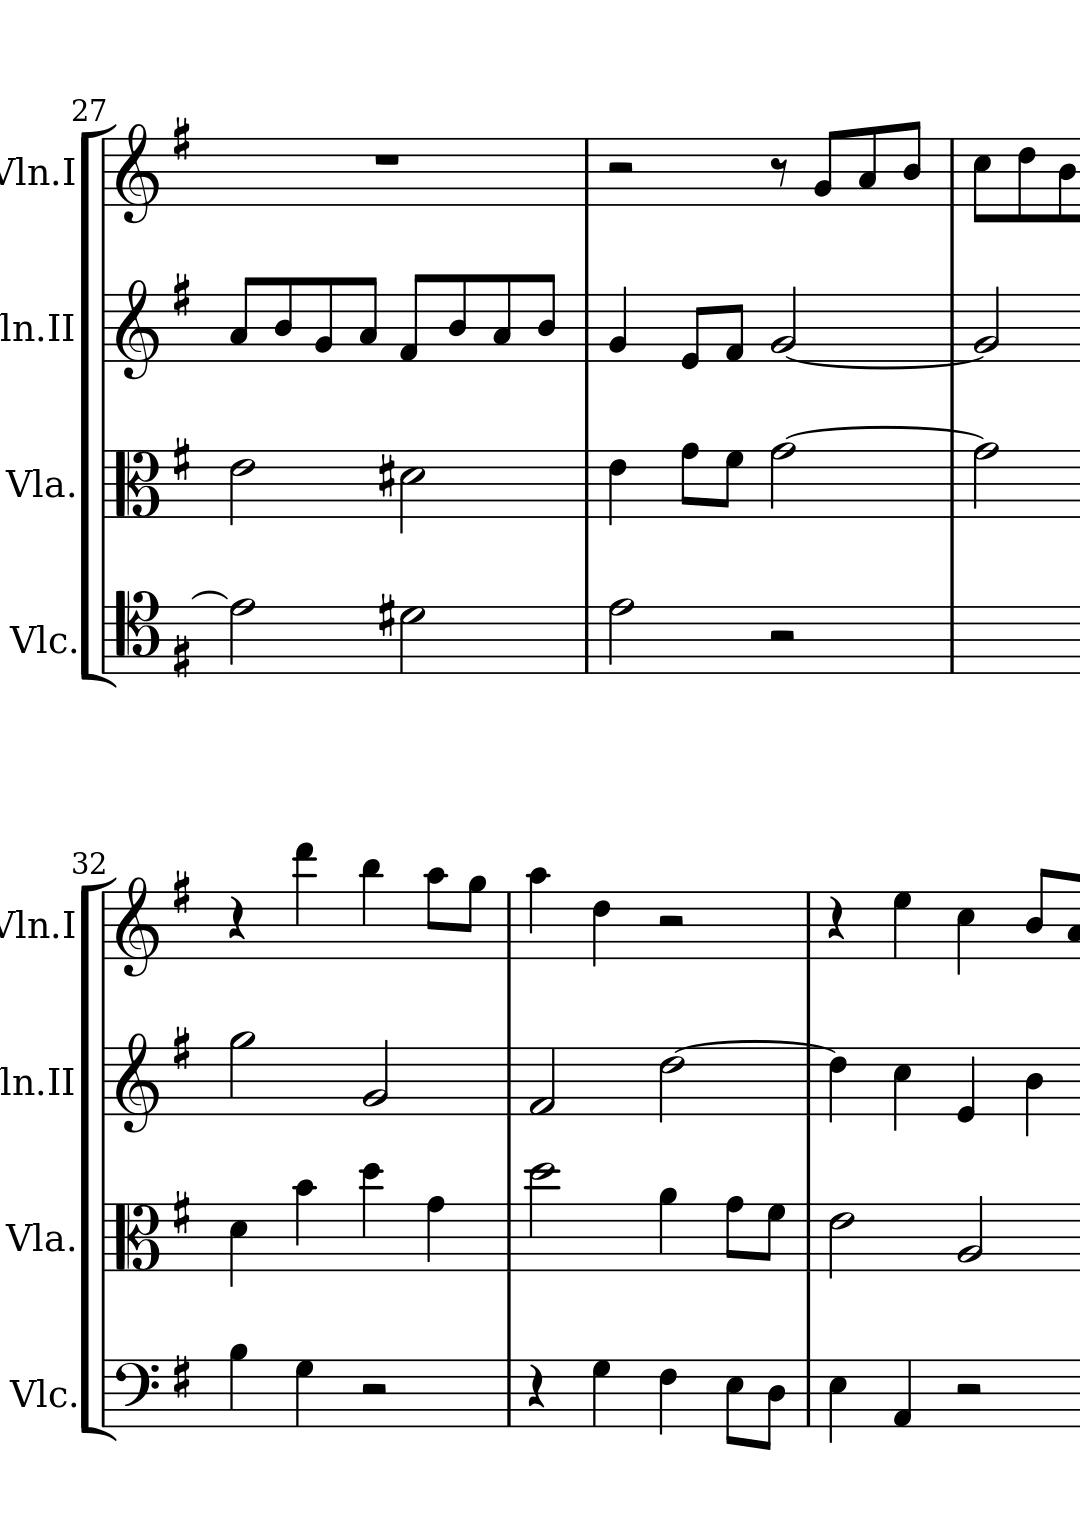2: (69, 96, 88, 124), (88, 849, 106, 876)
2_1: (526, 1045, 556, 1116)
2_12: (525, 1162, 558, 1274)
2_2: (956, 1192, 986, 1273), (768, 285, 798, 364), (361, 1038, 390, 1118), (972, 284, 1001, 362)
2_5: (397, 449, 425, 535)
2_6: (227, 448, 257, 528), (826, 1202, 854, 1281), (657, 1045, 684, 1126)
2_7: (397, 603, 425, 675)
2_8: (226, 596, 256, 676), (971, 440, 1001, 520), (767, 441, 795, 521), (605, 597, 634, 677)
2_9: (226, 1029, 255, 1118)
3: (70, 849, 88, 876)
4_0: (955, 1045, 977, 1125)
4_1: (889, 1358, 913, 1430)
4_10: (291, 1178, 316, 1273), (526, 866, 549, 960)
4_11: (358, 856, 381, 962)
4_12: (356, 1163, 383, 1275)
4_13: (292, 842, 316, 960)
4_2: (605, 284, 629, 362)
4_4: (1023, 1045, 1044, 1139)
4_5: (954, 889, 976, 979), (226, 1202, 248, 1290), (826, 1357, 849, 1445), (891, 1046, 912, 1133)
4_6: (826, 1045, 849, 1125), (605, 449, 628, 527), (590, 889, 611, 969), (657, 1358, 678, 1437)
4_7: (291, 1357, 316, 1427), (889, 890, 913, 961), (589, 1358, 611, 1429)
4_8: (423, 1194, 446, 1274)
4_9: (656, 1185, 679, 1273), (227, 1342, 248, 1427)
7: (89, 95, 108, 124)
8_0: (678, 293, 707, 371)
8_1: (397, 272, 429, 364), (724, 293, 745, 364)
8_10: (423, 866, 446, 960)
8_2: (812, 129, 839, 207), (313, 275, 334, 364)
8_3: (227, 275, 256, 364), (490, 272, 513, 365), (356, 276, 378, 364), (856, 125, 878, 208)
8_4: (1023, 866, 1052, 961), (759, 1357, 785, 1451), (535, 272, 558, 364), (272, 276, 295, 364), (446, 272, 468, 364), (901, 120, 922, 208)
8_5: (971, 134, 992, 224), (722, 1357, 743, 1447)
8_6: (1015, 136, 1036, 226), (1055, 136, 1076, 224)
8_7: (716, 449, 745, 518), (759, 1201, 785, 1272)
8_8: (679, 441, 701, 520), (724, 1194, 745, 1273)
8_9: (461, 874, 487, 960)
Bracke: (76, 122, 117, 691), (79, 874, 117, 1441)
Cclef: (111, 1201, 161, 1275), (111, 448, 160, 520)
Fclef: (112, 1357, 159, 1432)
Gclef: (112, 120, 159, 226), (113, 276, 160, 381), (115, 874, 161, 979), (115, 1032, 161, 1135)
Rests1: (371, 150, 403, 170)
Rests2: (356, 1380, 392, 1401), (655, 911, 688, 932), (951, 1380, 984, 1401), (603, 159, 636, 177), (764, 628, 797, 645)
Rests4: (522, 1362, 548, 1412), (223, 894, 248, 942), (823, 896, 847, 942)
Rests8: (768, 155, 790, 191)
Sharp: (168, 115, 193, 163), (169, 1354, 192, 1402), (374, 451, 395, 502), (169, 270, 192, 317), (169, 436, 191, 485), (169, 1024, 191, 1072), (375, 590, 395, 641), (171, 867, 191, 917), (169, 1189, 189, 1237), (171, 634, 191, 680)
Single_barline: (799, 1053, 821, 1115), (95, 606, 113, 675), (577, 606, 596, 675), (799, 1203, 818, 1272), (95, 892, 113, 960), (799, 1358, 818, 1426), (577, 451, 596, 518), (95, 1204, 113, 1271), (499, 1360, 518, 1426), (95, 451, 113, 517), (944, 451, 963, 517), (499, 892, 518, 957), (97, 293, 115, 362), (577, 293, 595, 362), (500, 1203, 518, 1271), (95, 139, 112, 206), (943, 606, 960, 675), (97, 1048, 113, 1115), (500, 1048, 517, 1115), (579, 139, 595, 206), (943, 295, 960, 361), (96, 1360, 112, 1426), (799, 892, 816, 957), (944, 138, 960, 207)
Slur: (782, 426, 988, 442), (785, 357, 982, 373), (670, 1038, 838, 1056), (191, 590, 229, 602)
Tensor_Cclef: (111, 588, 160, 675)
Vla: (4, 459, 67, 507), (4, 1215, 67, 1261)
Vlc: (6, 1369, 70, 1416), (7, 615, 70, 661)
